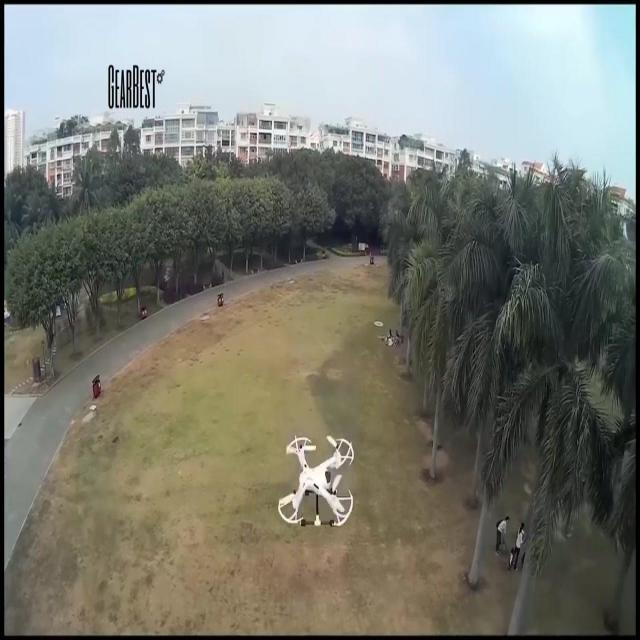UAV: (278, 436, 354, 526)
